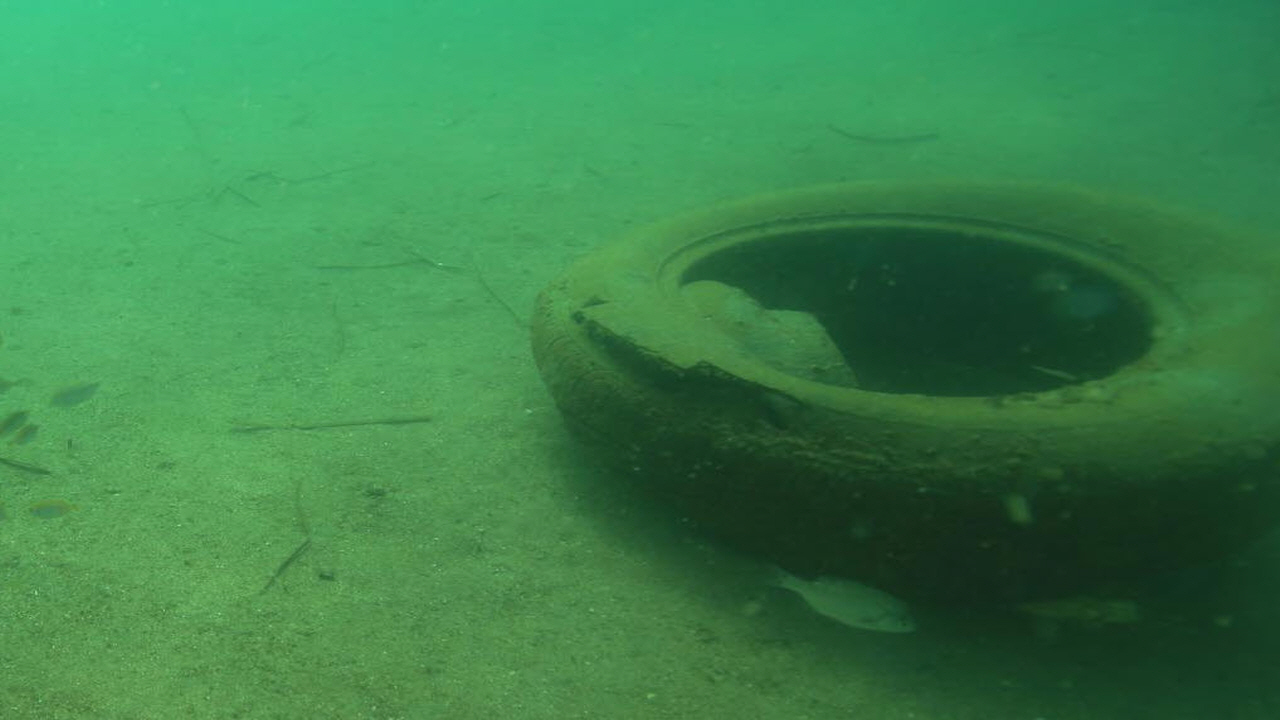tire: (528, 175, 1280, 601)
